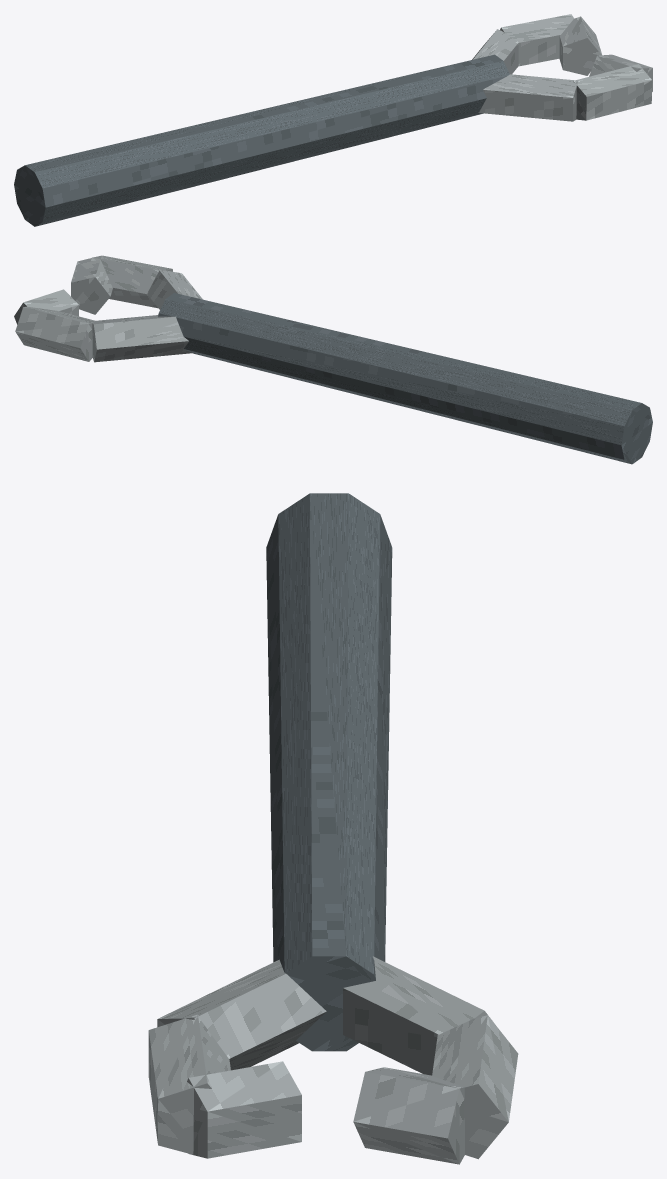
Rendered from ny_hook.glb.
3 views of the same model, one above another, from view 1: azimuth 30°, elevation 25°; view 2: azimuth 150°, elevation 25°; view 3: azimuth 270°, elevation 25° (orthographic). The views are drawn at different scales.
Visible parts, largest first — view 1: block_tool handle, block_steel hook 1 (×2), block_steel hook 0 (×2), block_steel hook 2 (×2); view 2: block_tool handle, block_steel hook 1 (×2), block_steel hook 0 (×2), block_steel hook 2 (×2); view 3: block_tool handle, block_steel hook 0 (×2), block_steel hook 2 (×2), block_steel hook 1 (×2).
Boxes of the visible parts, left/top/right/bottom form: block_tool handle: left=14, top=54, right=509, bottom=226; block_steel hook 1 (×2): left=500, top=14, right=652, bottom=120; block_steel hook 0 (×2): left=472, top=29, right=577, bottom=121; block_steel hook 2 (×2): left=559, top=16, right=652, bottom=91; block_tool handle: left=158, top=293, right=652, bottom=464; block_steel hook 1 (×2): left=15, top=255, right=172, bottom=361; block_steel hook 0 (×2): left=92, top=269, right=202, bottom=362; block_steel hook 2 (×2): left=14, top=255, right=112, bottom=324; block_tool handle: left=266, top=493, right=392, bottom=1051; block_steel hook 0 (×2): left=157, top=956, right=492, bottom=1075; block_steel hook 2 (×2): left=187, top=1061, right=464, bottom=1164; block_steel hook 1 (×2): left=148, top=1014, right=518, bottom=1159.
Size of the model in its own units: 0.9 by 0.0787 by 0.2427.
1 material, 1 textured.
